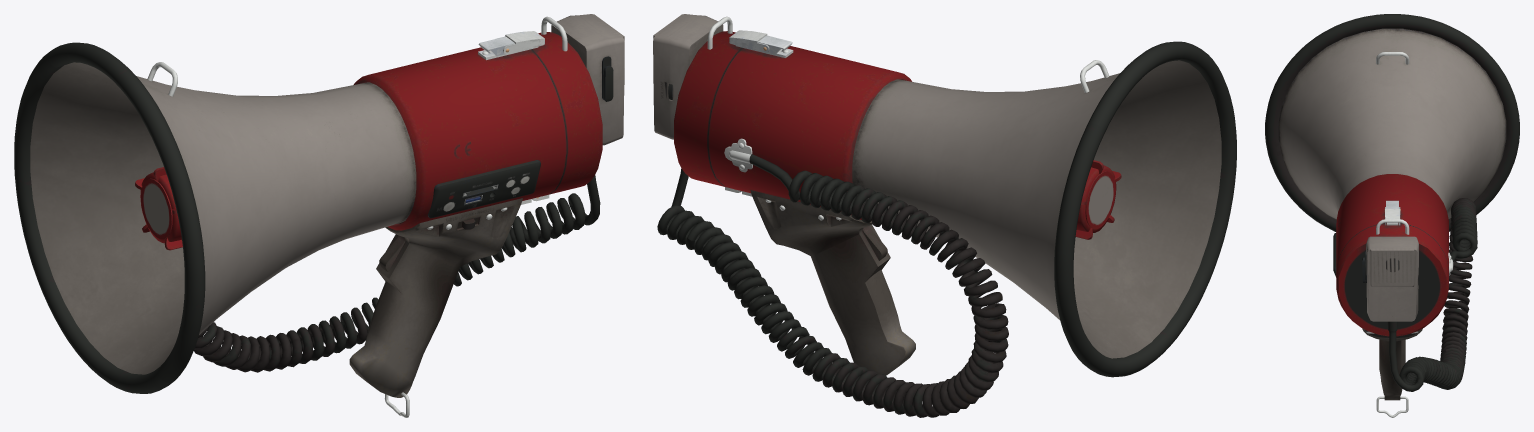
Rendered from megaphone.gltf.
3 renders of one model, left to right at view 1: azimuth 30°, elevation 25°; view 2: azimuth 150°, elevation 25°; view 3: azimuth 270°, elevation 25°, orthographic. The views are drawn at different scales.
Parts seen in each view (by area): view 1: Megaphone_01; view 2: Megaphone_01; view 3: Megaphone_01.
Part boxes in pixels (left/top/right/bottom): Megaphone_01: left=14, top=14, right=624, bottom=417; Megaphone_01: left=653, top=14, right=1236, bottom=417; Megaphone_01: left=1265, top=14, right=1519, bottom=417.
Bounding box in the file's own units: 3.11 × 2.52 × 1.92.
1 material, 1 textured.
